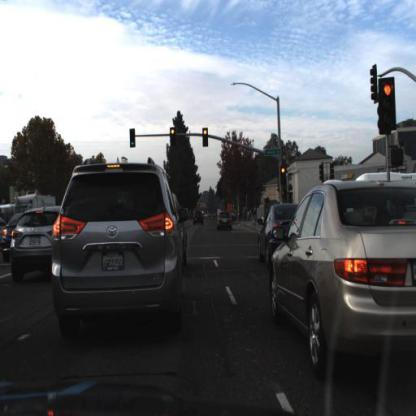car: (269, 172, 416, 376), (51, 159, 187, 333), (13, 206, 66, 279), (258, 201, 301, 269), (318, 168, 414, 184), (211, 208, 235, 237), (189, 207, 207, 226), (193, 208, 205, 226)
pedestrian: (252, 209, 258, 225)
trafficLight: (129, 126, 137, 149)
trafficLight-Red: (377, 76, 399, 141), (202, 125, 210, 149), (169, 126, 177, 147), (280, 165, 287, 185)
truck: (13, 186, 59, 217)
